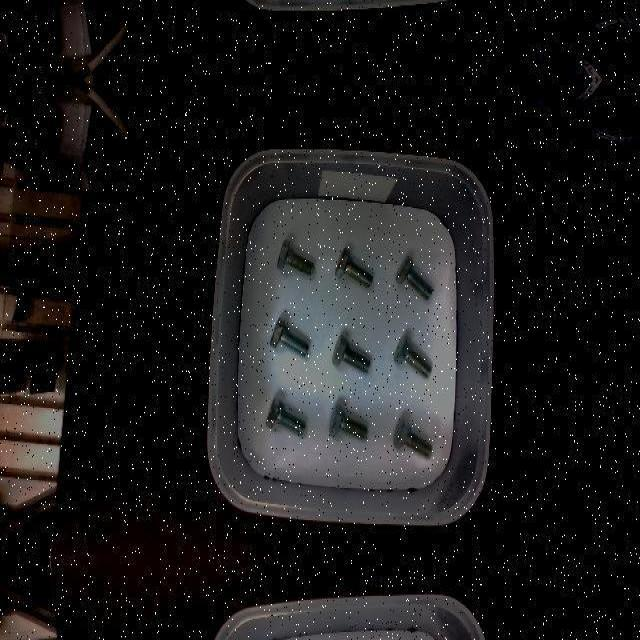screw: (265, 394, 306, 436), (394, 334, 432, 378), (270, 317, 309, 359), (393, 418, 432, 460), (396, 256, 433, 300), (331, 334, 369, 374), (335, 247, 372, 287), (277, 240, 314, 276), (329, 404, 368, 438)
